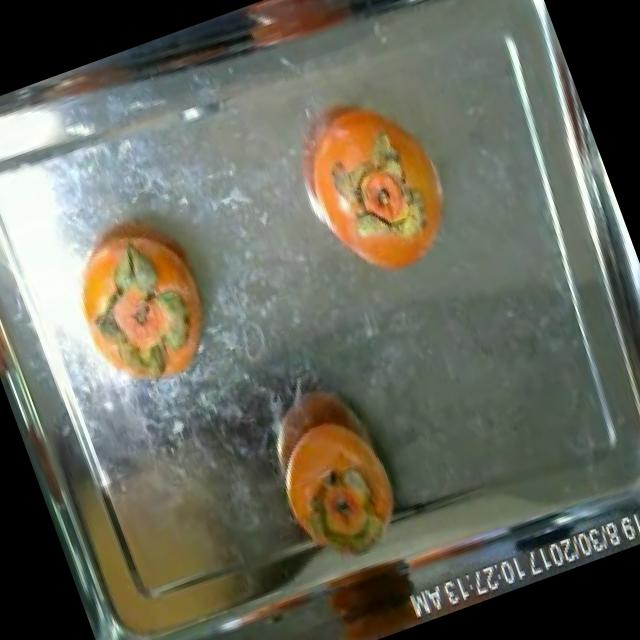Fruit: (241, 362, 428, 580), (70, 256, 224, 412)
